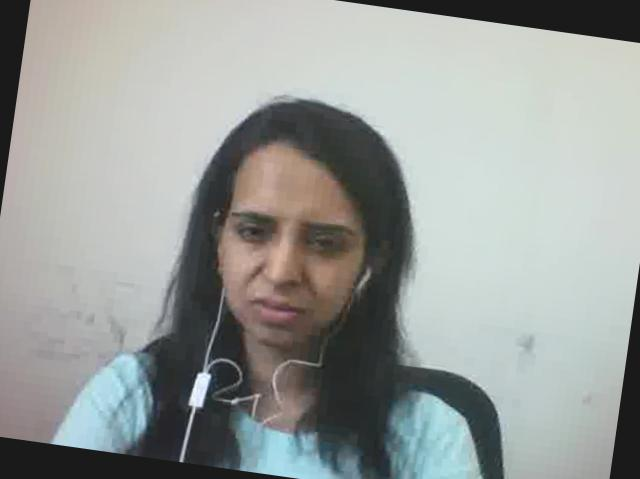bingung: (210, 146, 380, 366)
